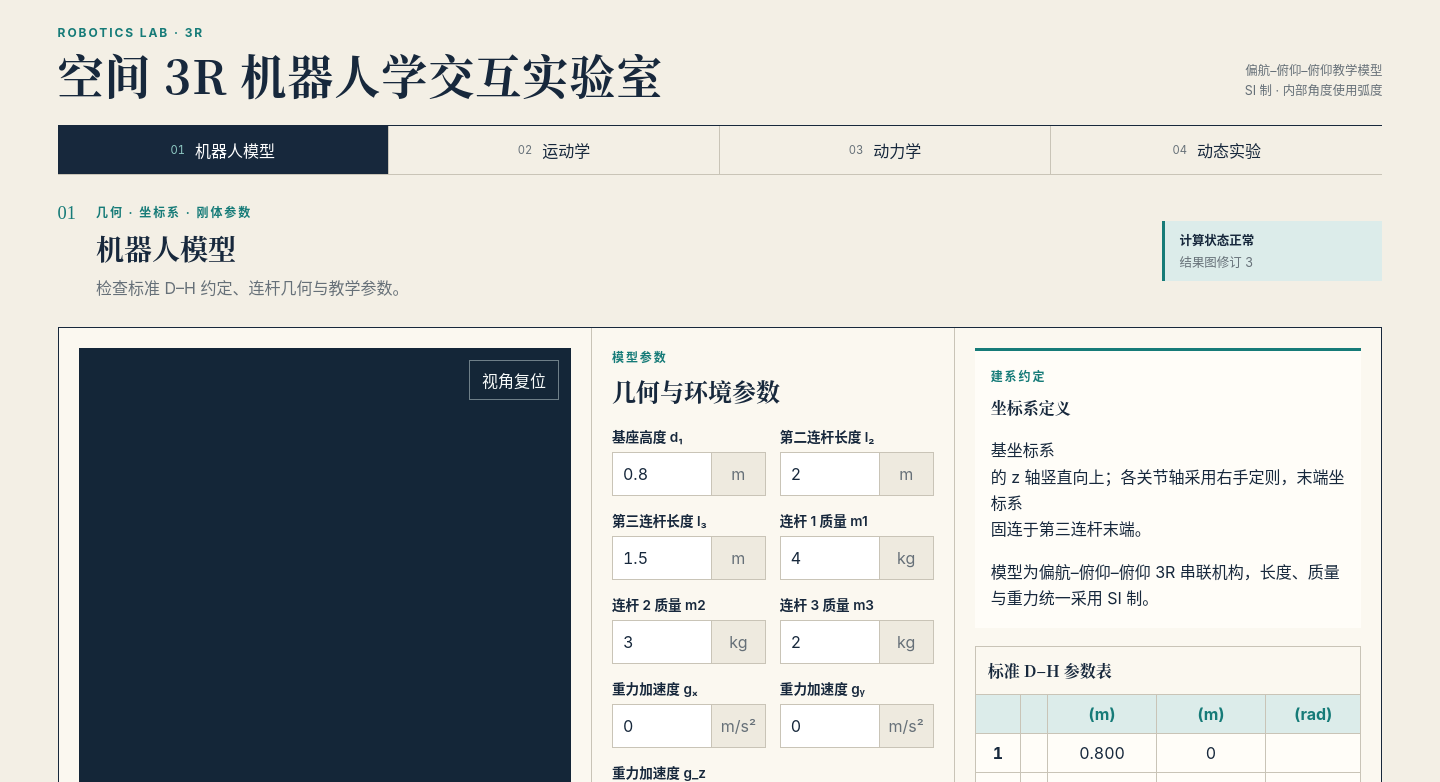
App › routes the model and kinematics tabs to their complete learning modules
Click the button "02 运动学" at (554, 150), box [389,126,720,174]
(page scrolled)
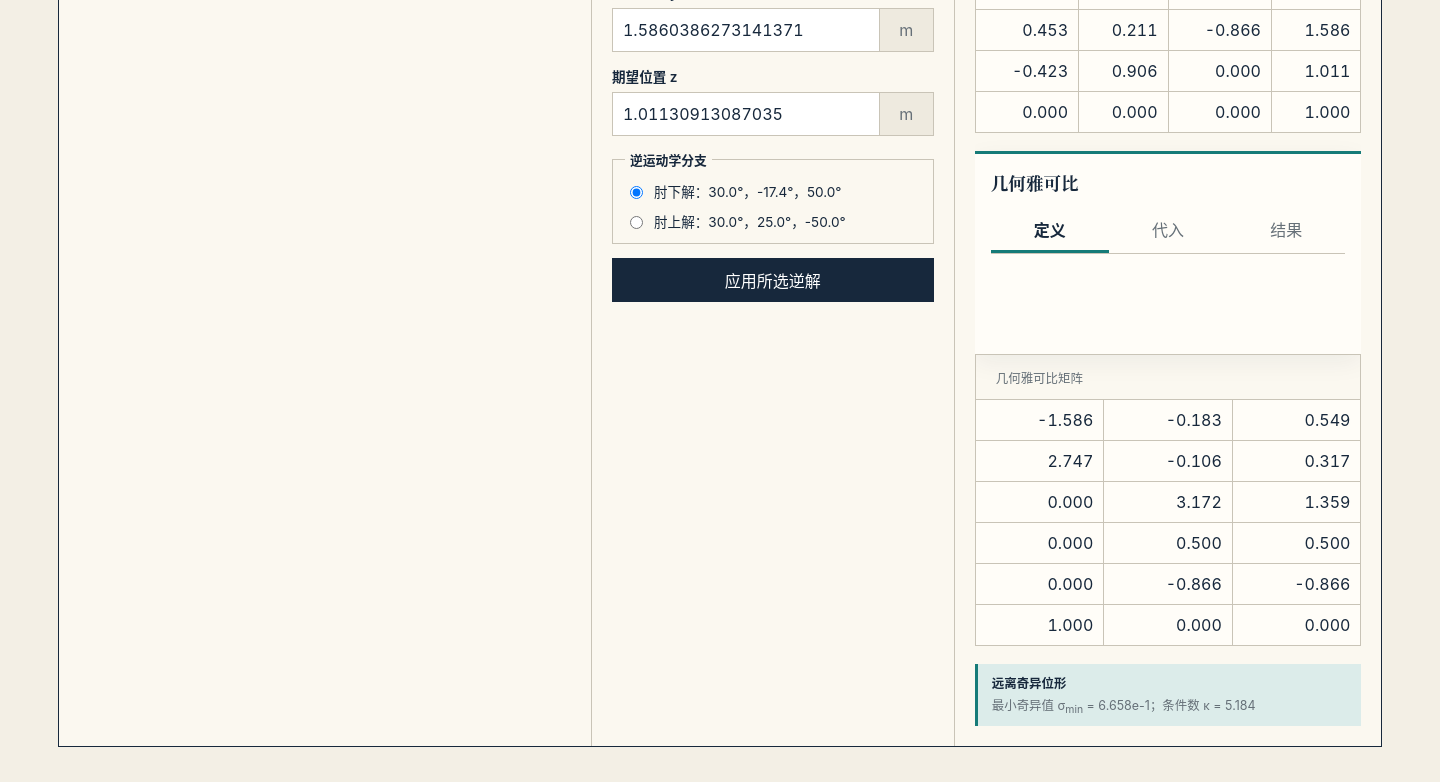
Expected: the element with test id "jacobian-result" is shown, [975,151,1361,646]
